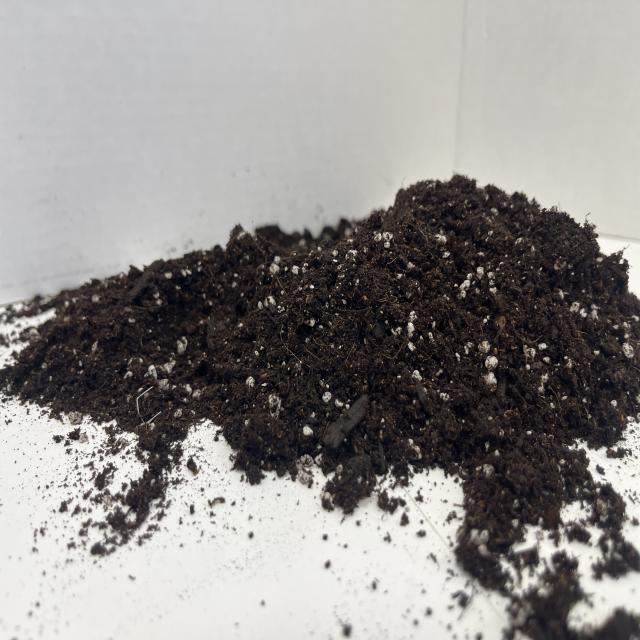soil: (32, 103, 616, 578)
